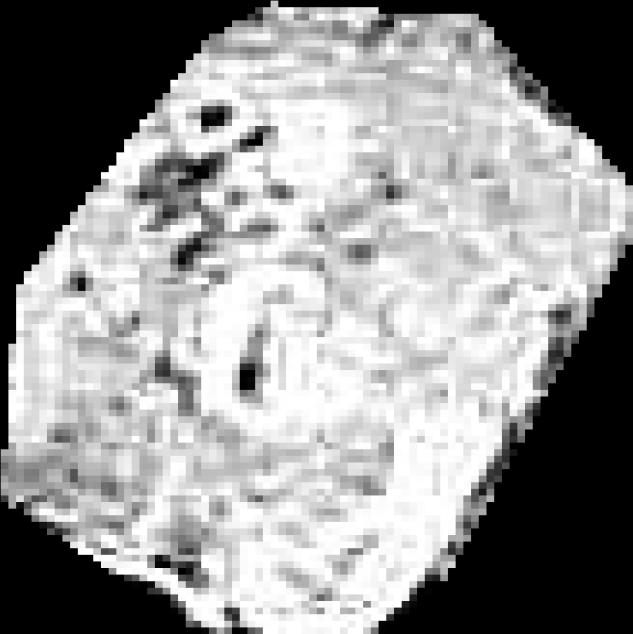tumor_moderate_chance: (1, 1, 633, 634)
